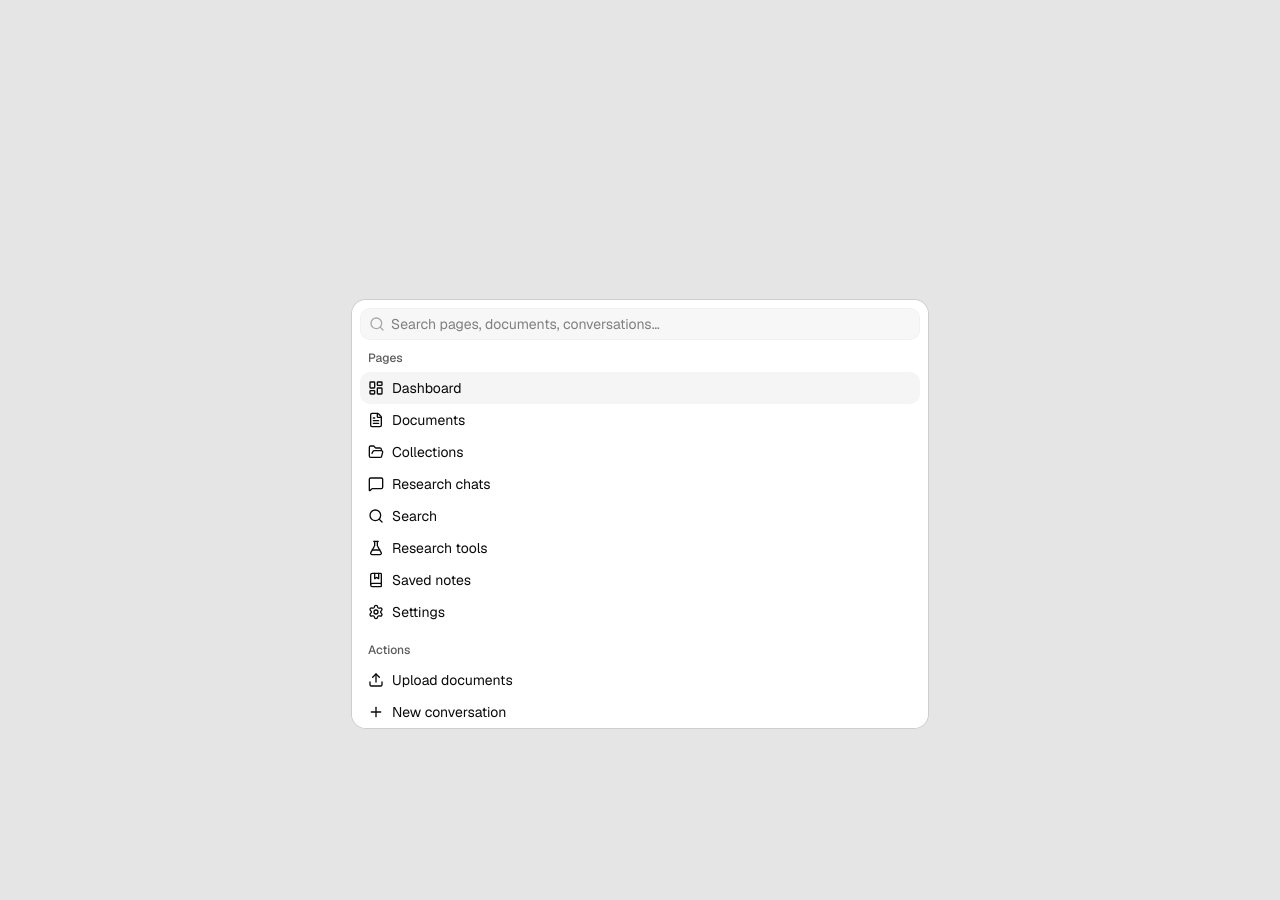
Test: command palette › shows an empty state when nothing matches
Type "zzzzqqq" into the dropdown with test id "palette-input" at point(652, 324), box [385,314,919,334]
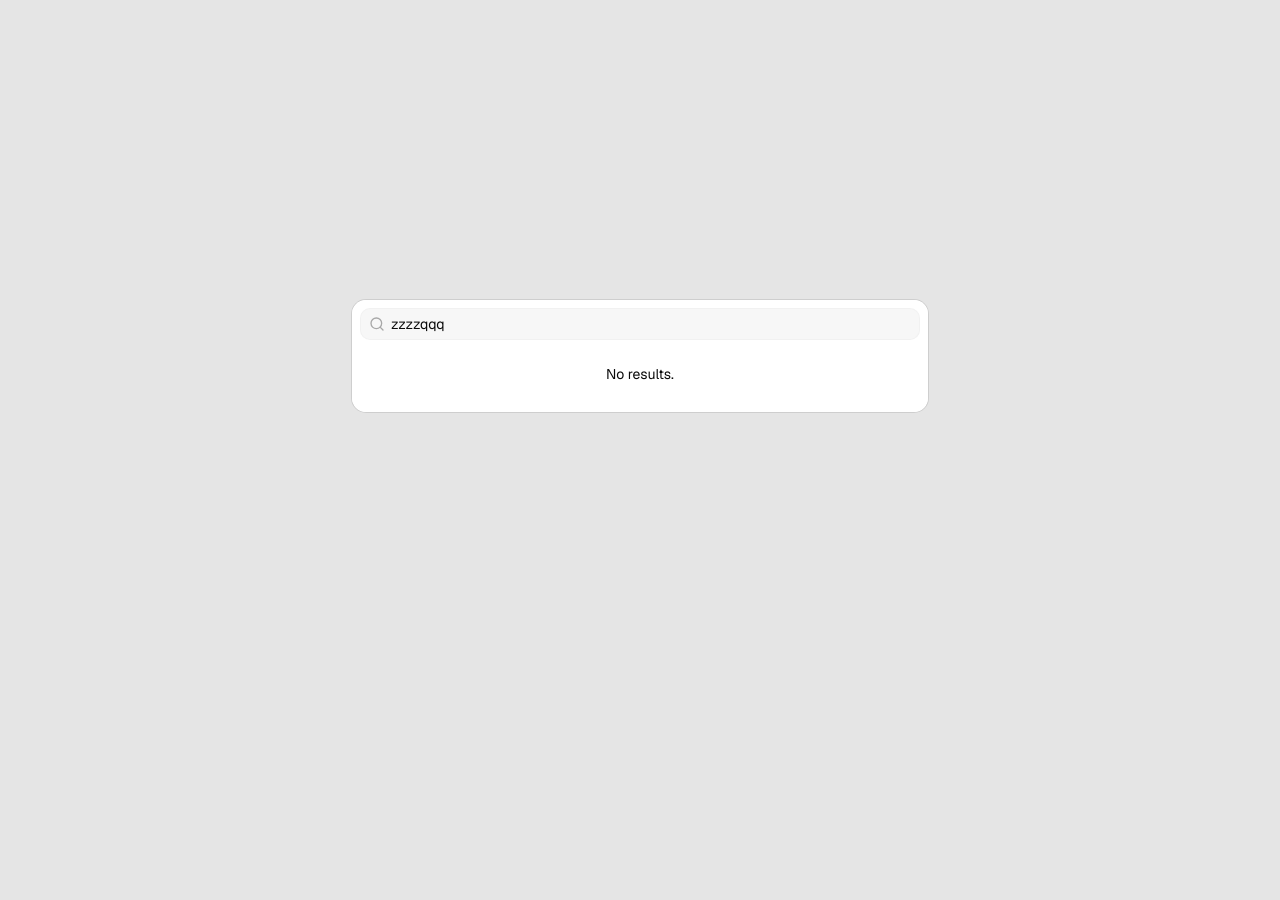
Expected: the option with test id "palette-page" is gone
Expected: the text "No results." is shown, [606,365,674,383]
